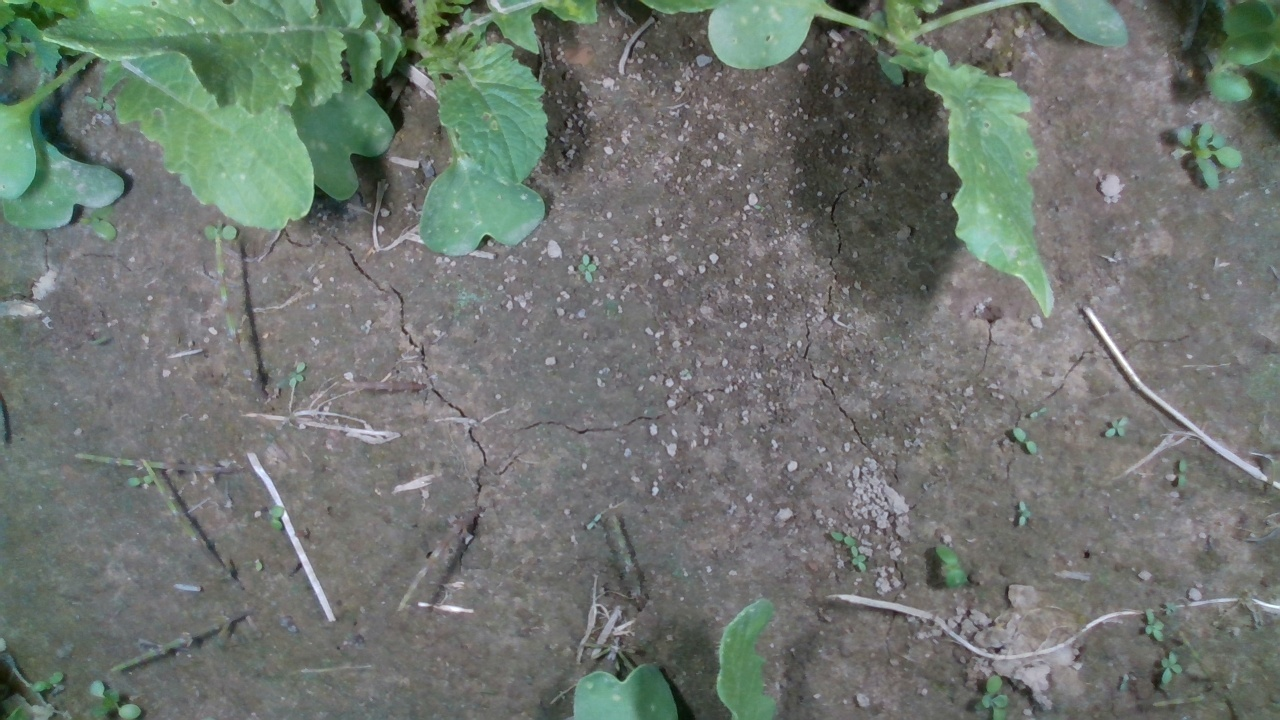weed: (1158, 649, 1183, 685), (1010, 425, 1037, 456), (574, 252, 598, 284), (1144, 608, 1165, 642), (1103, 415, 1129, 439), (285, 360, 306, 387), (850, 545, 868, 574), (268, 503, 285, 531), (828, 530, 857, 545), (1177, 457, 1187, 491)
